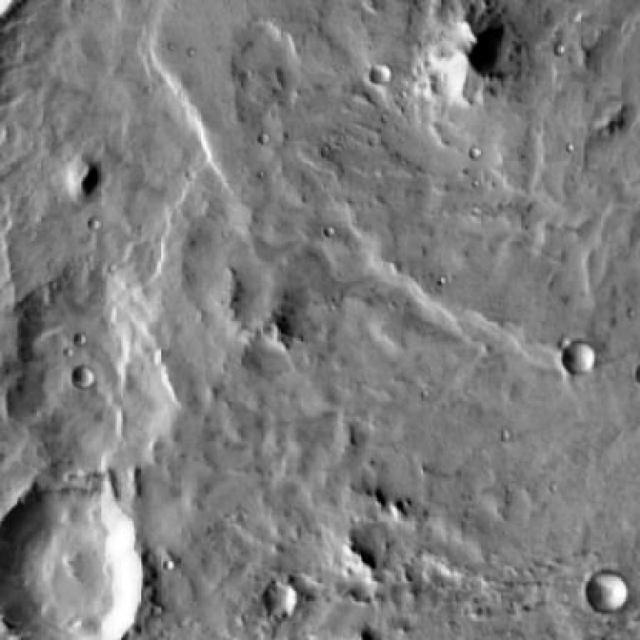crater: (0, 275, 175, 464), (0, 492, 146, 640), (586, 572, 625, 611), (262, 578, 298, 614), (566, 340, 600, 374), (371, 60, 392, 82), (74, 362, 94, 382)
